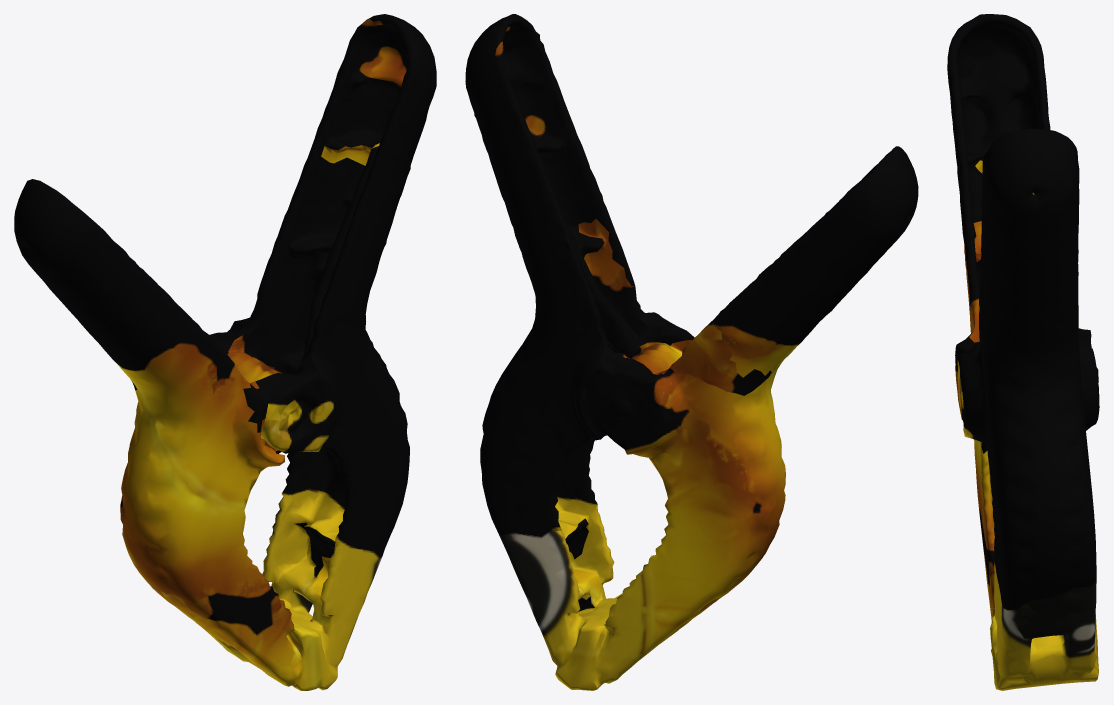
3 views of the same model, side by side, from view 1: azimuth 30°, elevation 25°; view 2: azimuth 150°, elevation 25°; view 3: azimuth 270°, elevation 25° (orthographic). The views are drawn at different scales.
Bounding box in the file's own units: 0.12 × 0.1711 × 0.0392.
